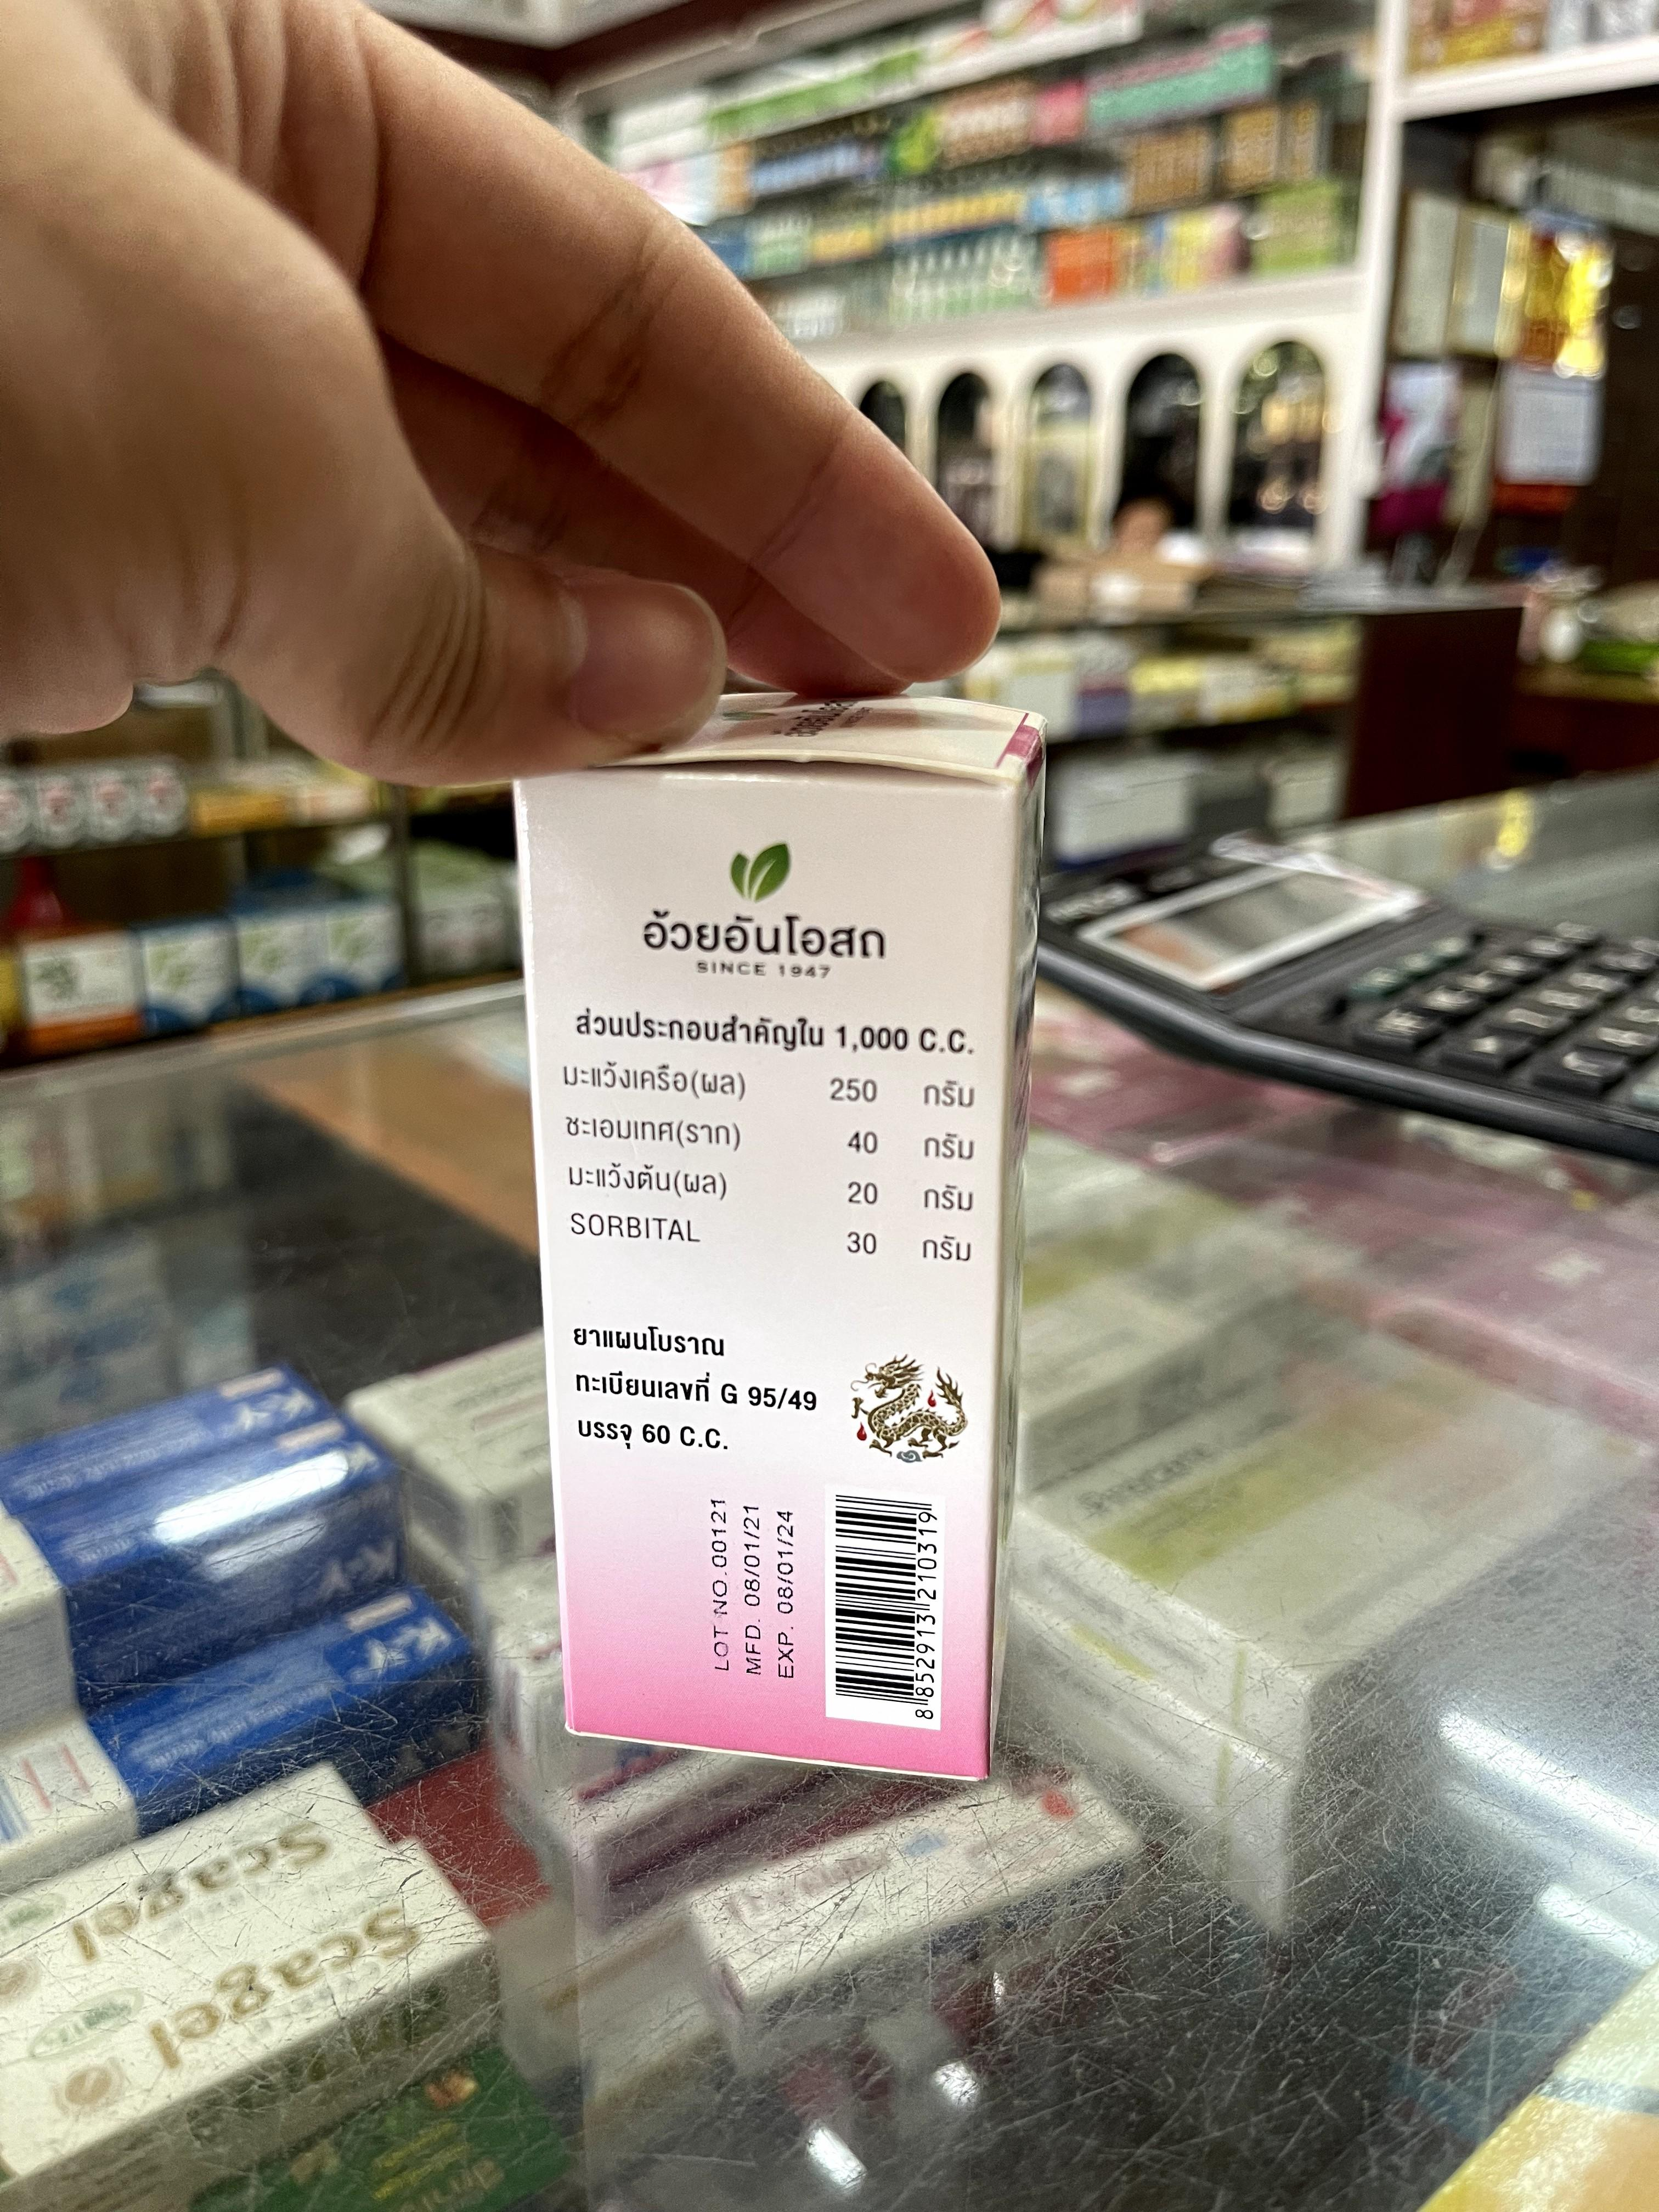Ma-Vaeng_Light: (525, 702, 1042, 1780)
